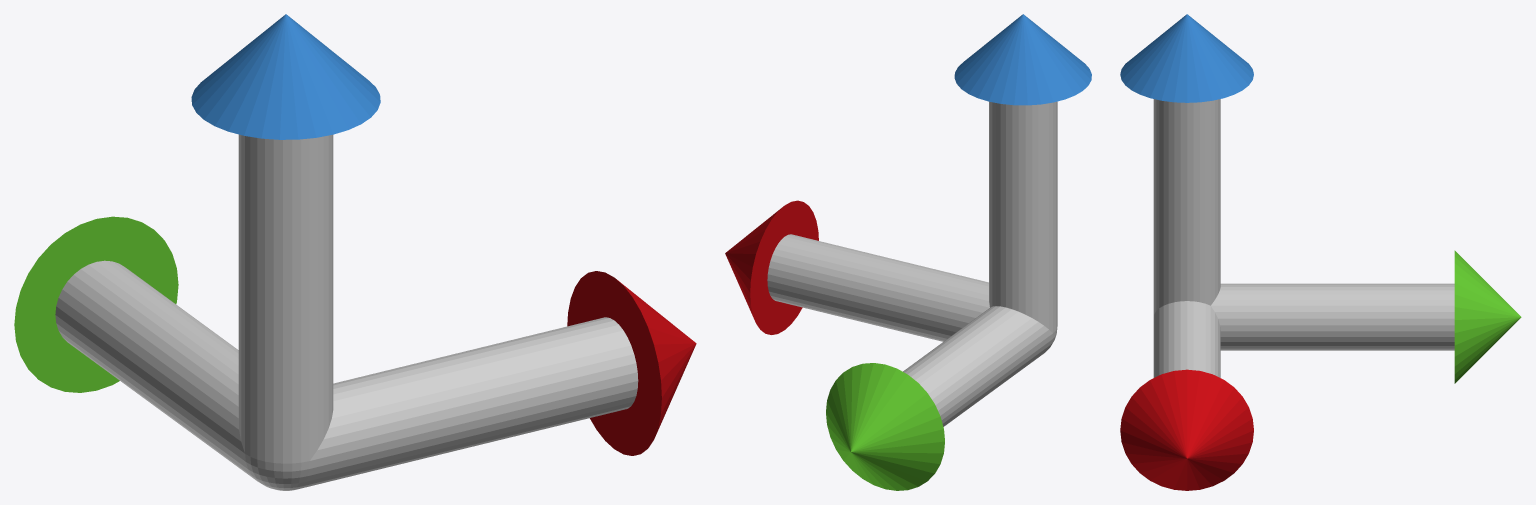
File: coords.obj
3 renders of one model, left to right at view 1: azimuth 30°, elevation 25°; view 2: azimuth 150°, elevation 25°; view 3: azimuth 270°, elevation 25°, orthographic. The views are drawn at different scales.
Visible parts, largest first — view 1: Cylinder, Cylinder.002, Cylinder.001, Cone, Cone.001, Cone.002, Sphere; view 2: Cylinder, Cylinder.002, Cone.001, Cylinder.001, Cone, Cone.002; view 3: Cylinder.001, Cylinder, Cone.002, Cone, Cone.001, Cylinder.002.
Boxes of the visible parts, box(x1,y1,x2,y2) form: Cylinder: box(238, 134, 333, 463); Cylinder.002: box(300, 317, 638, 488); Cylinder.001: box(55, 260, 255, 479); Cone: box(191, 14, 380, 139); Cone.001: box(14, 216, 178, 392); Cone.002: box(567, 271, 696, 455); Sphere: box(245, 454, 309, 490); Cylinder: box(989, 101, 1057, 332); Cylinder.002: box(767, 234, 989, 341); Cone.001: box(826, 363, 944, 490); Cylinder.001: box(903, 306, 1052, 426); Cone: box(954, 14, 1091, 105); Cone.002: box(725, 200, 818, 334); Cylinder.001: box(1211, 283, 1454, 350); Cylinder: box(1153, 99, 1220, 316); Cone.002: box(1120, 369, 1253, 490); Cone: box(1120, 14, 1253, 102); Cone.001: box(1454, 250, 1521, 383); Cylinder.002: box(1153, 301, 1220, 377).
Bounding box in the file's own units: 1.2 × 1.2 × 1.2.
